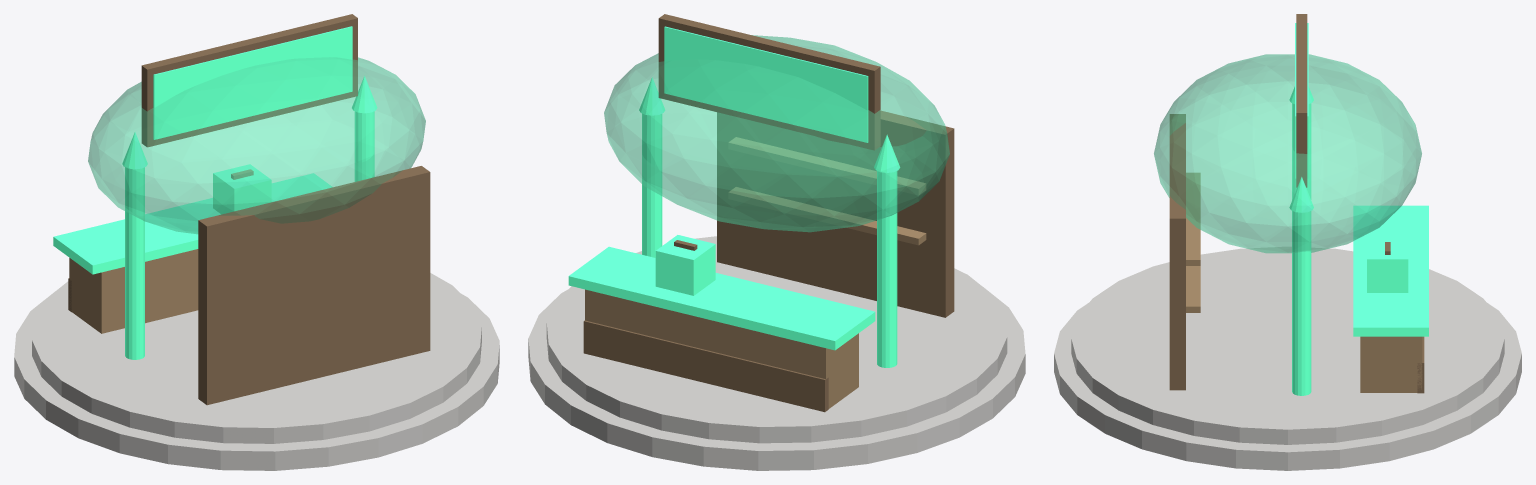
File: booth_emerald.fbx
3 renders of one model, left to right at view 1: azimuth 30°, elevation 25°; view 2: azimuth 150°, elevation 25°; view 3: azimuth 270°, elevation 25°, orthographic. The views are drawn at different scales.
Visible parts, largest first — view 1: Canopy, Back_Wall, Base_Upper, Base_Lower, Sign_Board, Counter_Top, Counter_Body, Sign_Frame, Pillar_L, DonationBox, Pillar_R, Flag_L (+1 smaller); view 2: Canopy, Base_Upper, Back_Wall, Base_Lower, Sign_Board, Counter_Top, Counter_Body, Counter_Skirt, Sign_Frame, Pillar_L, DonationBox, Pillar_R (+4 smaller); view 3: Base_Upper, Canopy, Base_Lower, Counter_Top, Back_Wall, Pillar_R, Counter_Body, DonationBox, Sign_Frame, Back_Shelf2, Back_Shelf, Sign_Board (+2 smaller).
Part boxes in pixels (<box>): Canopy: <box>88,57,425,234</box>; Back_Wall: <box>198,166,430,405</box>; Base_Upper: <box>32,273,481,443</box>; Base_Lower: <box>14,293,499,470</box>; Sign_Board: <box>153,26,352,139</box>; Counter_Top: <box>53,173,332,274</box>; Counter_Body: <box>69,249,198,333</box>; Sign_Frame: <box>141,14,357,147</box>; Pillar_L: <box>125,167,144,359</box>; DonationBox: <box>213,164,271,214</box>; Pillar_R: <box>354,111,374,181</box>; Flag_L: <box>122,132,147,169</box>; Canopy: <box>604,35,949,232</box>; Base_Upper: <box>546,236,1007,443</box>; Back_Wall: <box>717,110,954,317</box>; Base_Lower: <box>528,287,1025,470</box>; Sign_Board: <box>664,26,868,142</box>; Counter_Top: <box>568,246,875,350</box>; Counter_Body: <box>585,289,858,408</box>; Counter_Skirt: <box>583,320,828,412</box>; Sign_Frame: <box>658,14,880,150</box>; Pillar_L: <box>877,171,897,367</box>; DonationBox: <box>655,235,715,295</box>; Pillar_R: <box>642,113,662,257</box>; Base_Upper: <box>1071,247,1504,444</box>; Canopy: <box>1154,54,1421,253</box>; Base_Lower: <box>1054,303,1521,470</box>; Counter_Top: <box>1353,205,1428,336</box>; Back_Wall: <box>1169,114,1185,390</box>; Pillar_R: <box>1292,211,1311,395</box>; Counter_Body: <box>1360,336,1422,392</box>; DonationBox: <box>1367,241,1408,292</box>; Sign_Frame: <box>1296,14,1307,187</box>; Back_Shelf2: <box>1186,173,1200,265</box>; Back_Shelf: <box>1186,266,1200,312</box>; Sign_Board: <box>1295,23,1308,178</box>.
Bounding box in the file's own units: 6.8 × 4.95 × 6.8.
